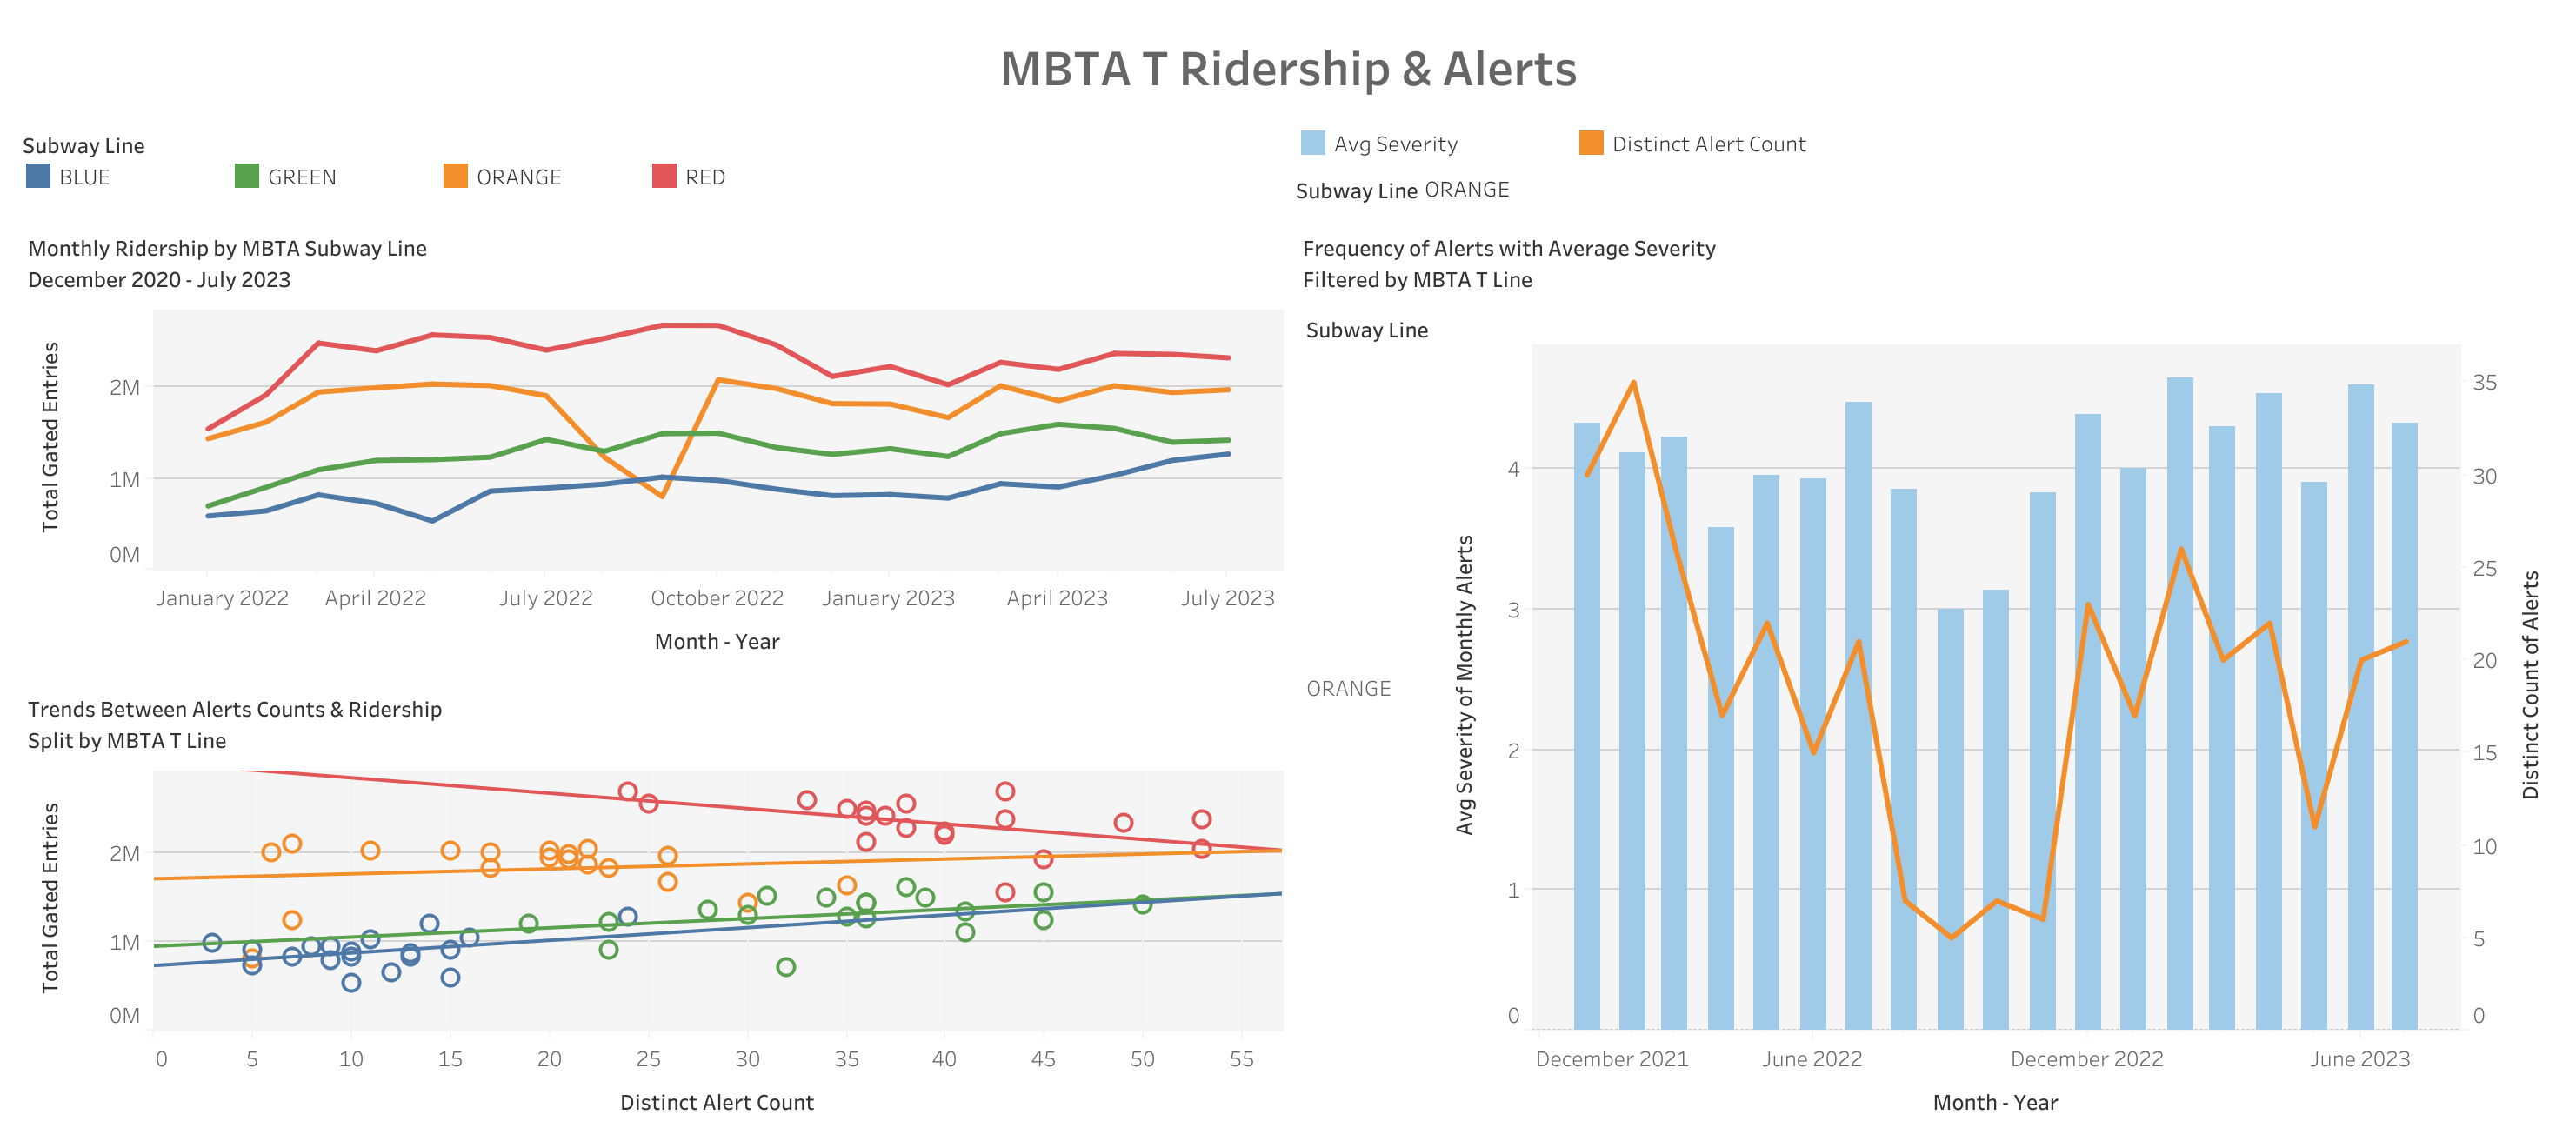

What the dashboard file says about the page in this screenshot:
{"tool":"tableau","page":{"name":"Dashboard 1","canvas":[1000,800],"ordinal":0},"visuals":[{"type":"worksheet","title":"Sheet 4","mark":"Automatic","cols":["Calculation_653373808237260804"],"box":[8,8,515,784]},{"type":"worksheet","title":"Sheet 3","mark":"Automatic","box":[523,8,469,453]},{"type":"worksheet","title":"Sheet 1","mark":"Automatic","rows":["cause_code"],"cols":["effect_name"],"box":[523,461,469,331]}]}

Visuals, with their boxes on the page's 1000x800 design canvas (x1, y1, x2, y2). These are canvas units, not pixel positions in the 2576x1148 screenshot, which may show the page scaled, cropped or inside an application window:
"Sheet 4" worksheet: detection(8, 8, 523, 792)
"Sheet 3" worksheet: detection(523, 8, 992, 461)
"Sheet 1" worksheet: detection(523, 461, 992, 792)
